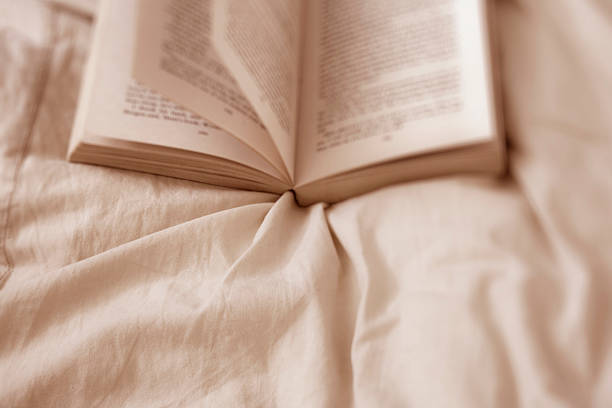book: (64, 3, 526, 207)
